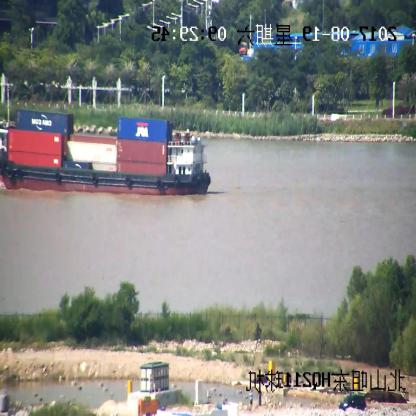Container Ship: (0, 86, 211, 196)
